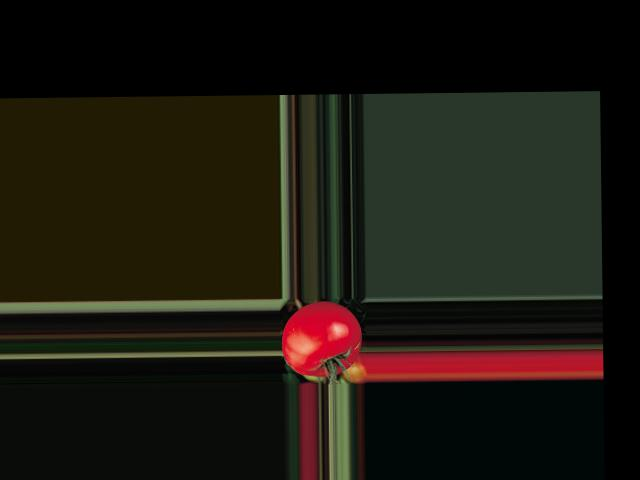tomato: (281, 300, 361, 376)
